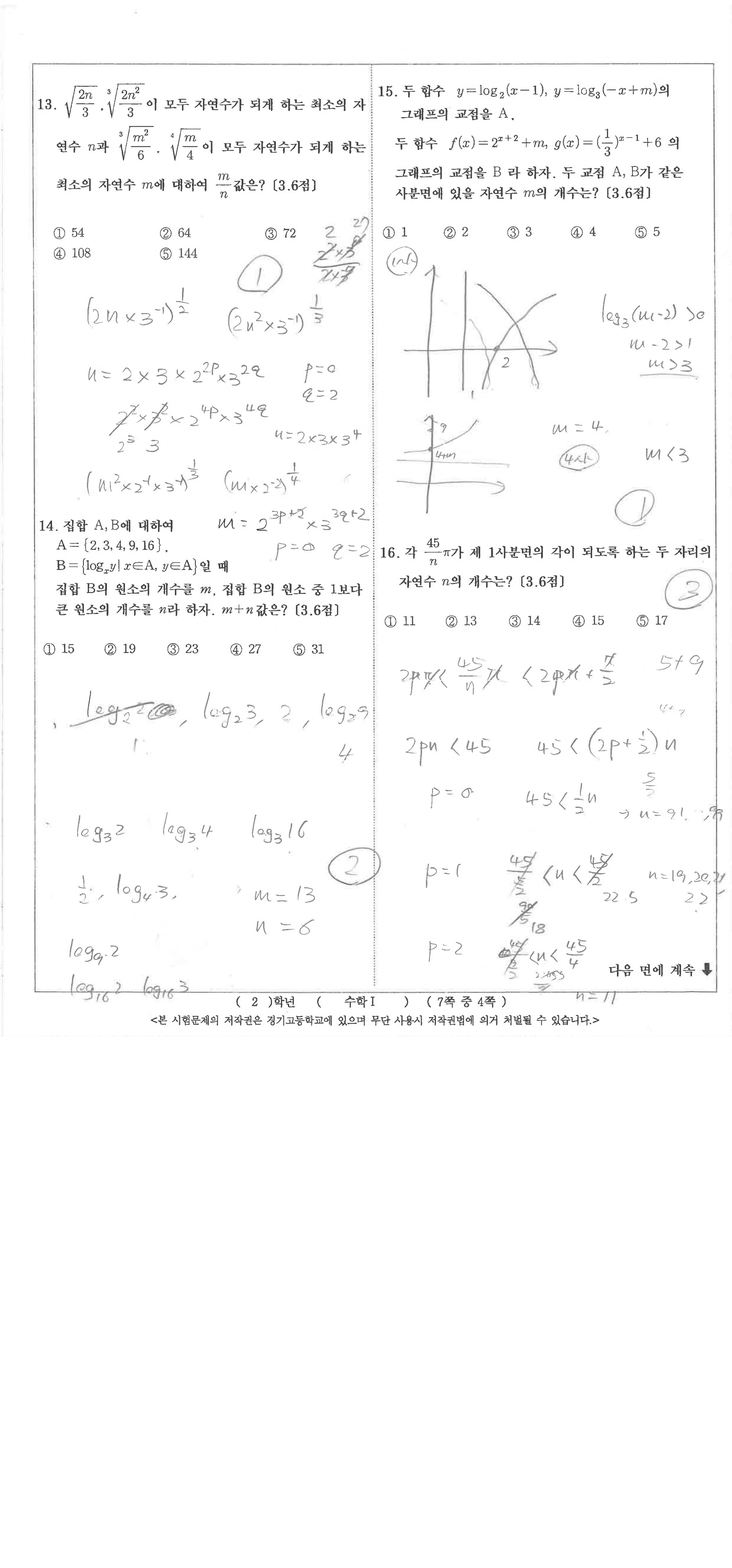problem: (34, 72, 370, 271), (34, 508, 374, 671), (374, 75, 700, 244), (378, 526, 713, 642)
